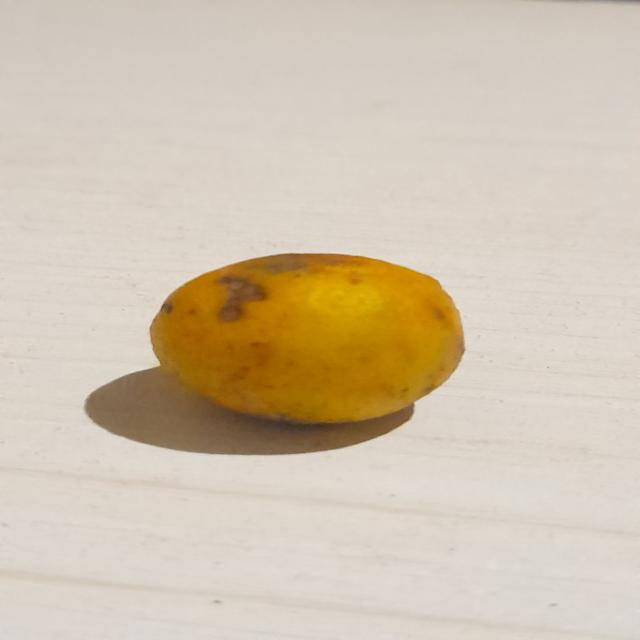black spot: (146, 256, 471, 434)
